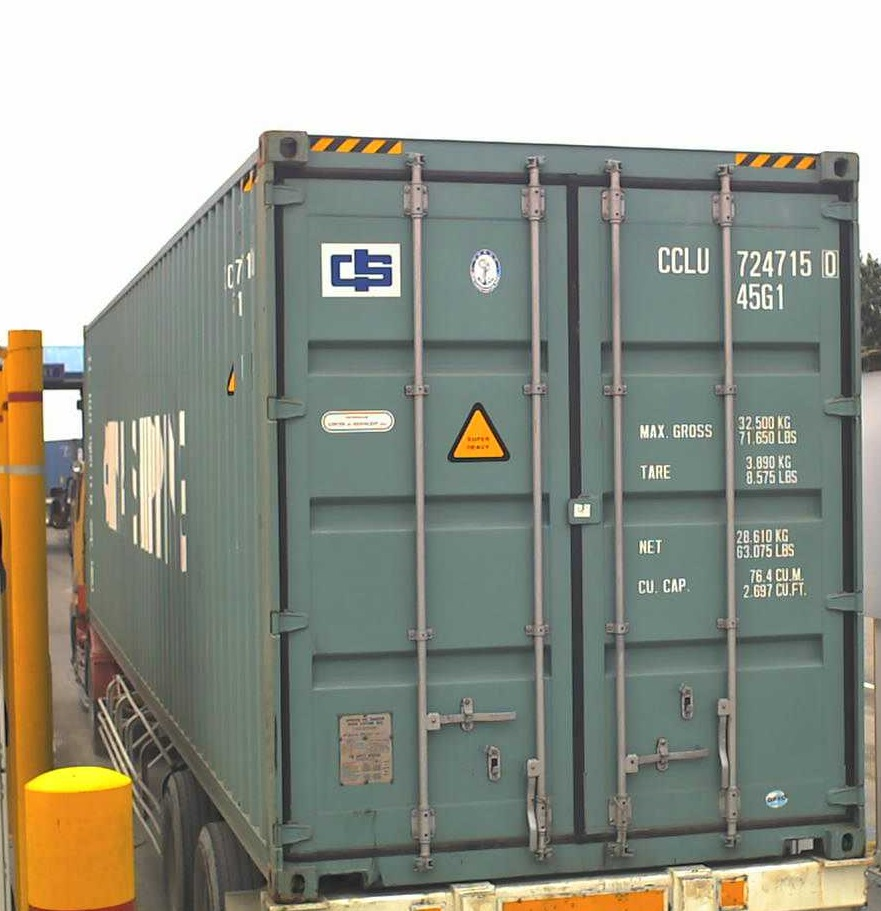container_door: (262, 128, 863, 880)
